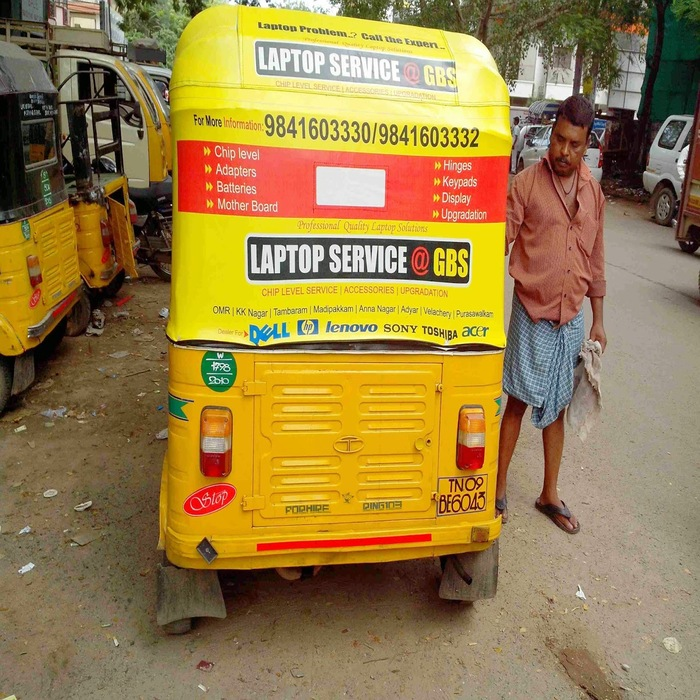n: (433, 474, 494, 521)
